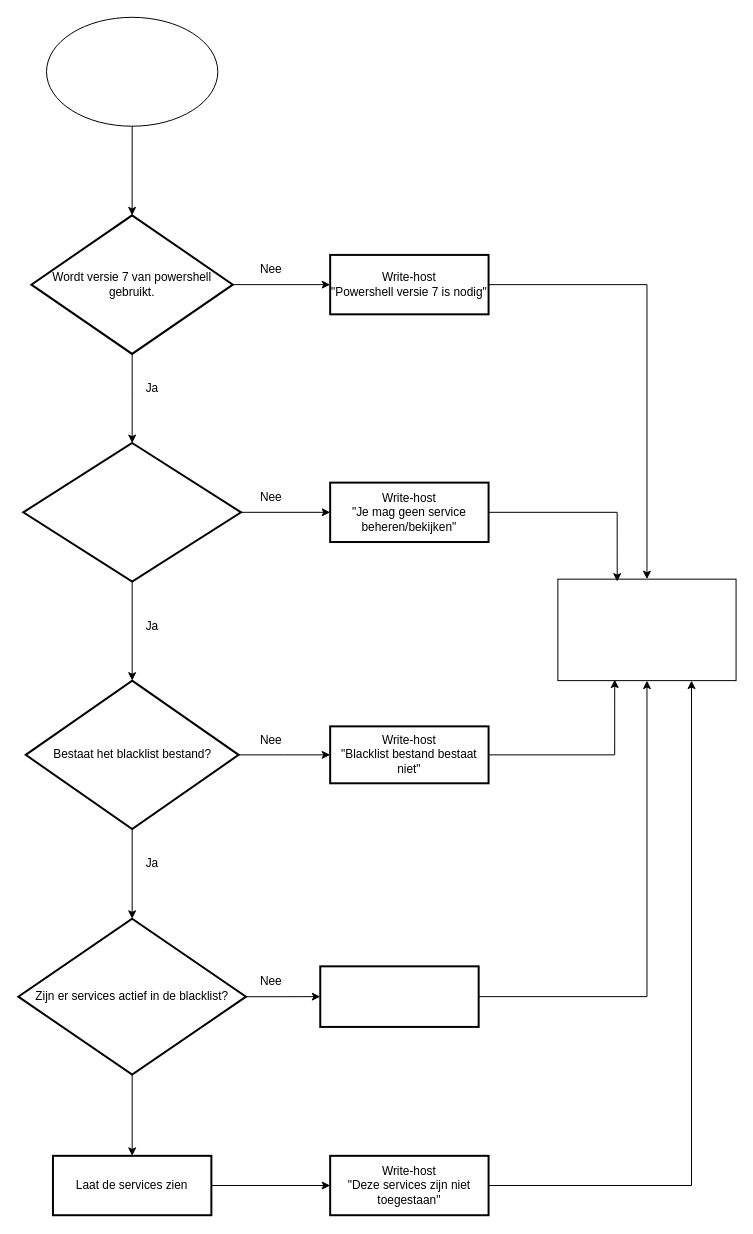
This 753x1234 diagram has some shape labels left out. Each missing label, with the centre of its shape:
Kun je services beheren/bekijken op het systeem?: point (132, 512)
Script services blacklist: point (132, 71)
Stop: point (646, 629)
Write-host "Er zijn geen actieve services": point (399, 996)
